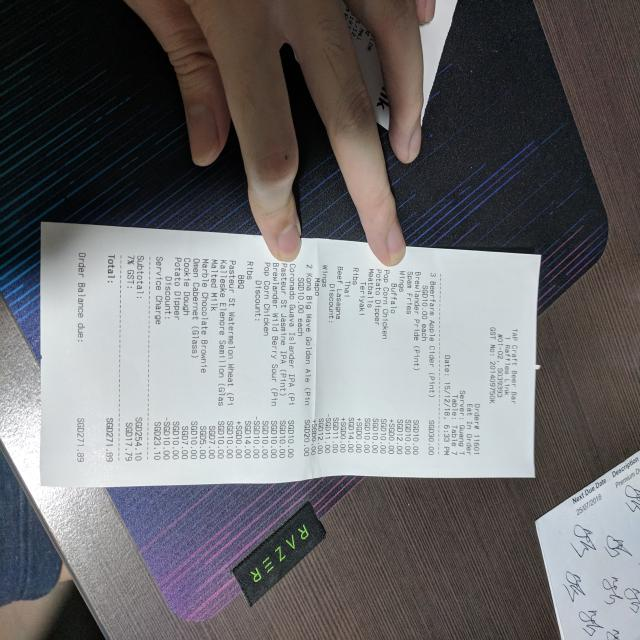bill_region: (100, 252, 439, 466)
